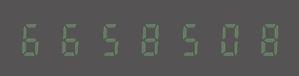eight: (131, 20, 168, 56), (245, 20, 282, 56)
five: (93, 20, 130, 56), (169, 20, 206, 56)
six: (17, 20, 54, 56), (55, 20, 92, 56)
zero: (207, 20, 244, 56)
